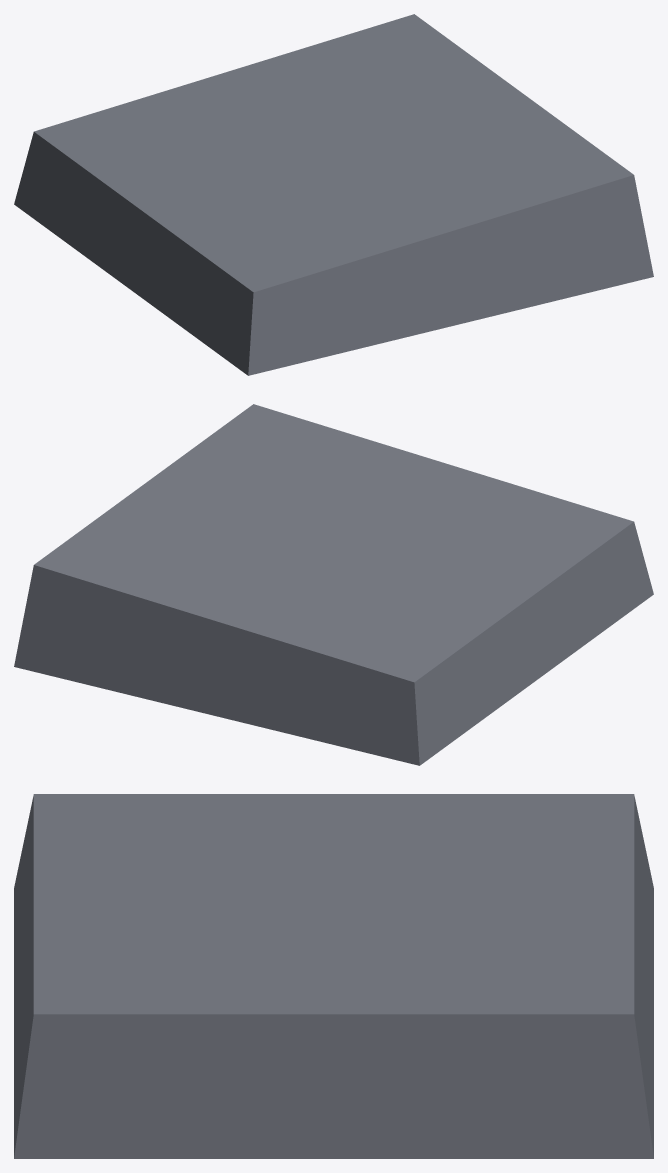
File: Rock_Tile_m_02.fbx
3 views of the same model, one above another, from view 1: azimuth 30°, elevation 25°; view 2: azimuth 150°, elevation 25°; view 3: azimuth 270°, elevation 25° (orthographic). The views are drawn at different scales.
Visible parts, largest first — view 1: Rock_Tile_m_02; view 2: Rock_Tile_m_02; view 3: Rock_Tile_m_02.
Boxes of the visible parts, bbox=[...] form: Rock_Tile_m_02: bbox=[14, 14, 653, 375]; Rock_Tile_m_02: bbox=[14, 404, 653, 765]; Rock_Tile_m_02: bbox=[14, 794, 653, 1158].
Size of the model in its own units: 40 by 9.4 by 40.
